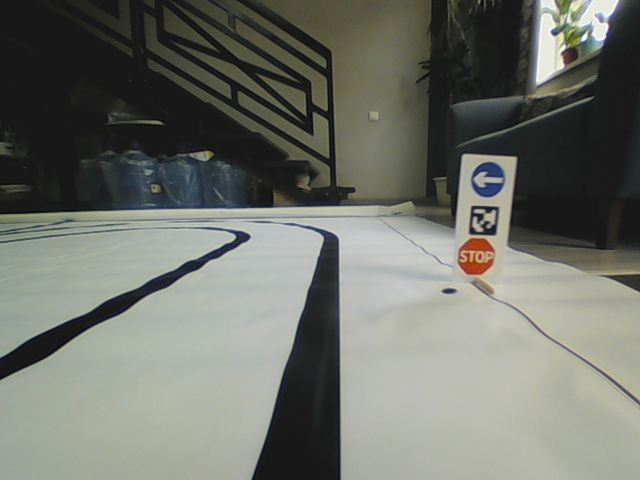Stop: (457, 236, 496, 278)
